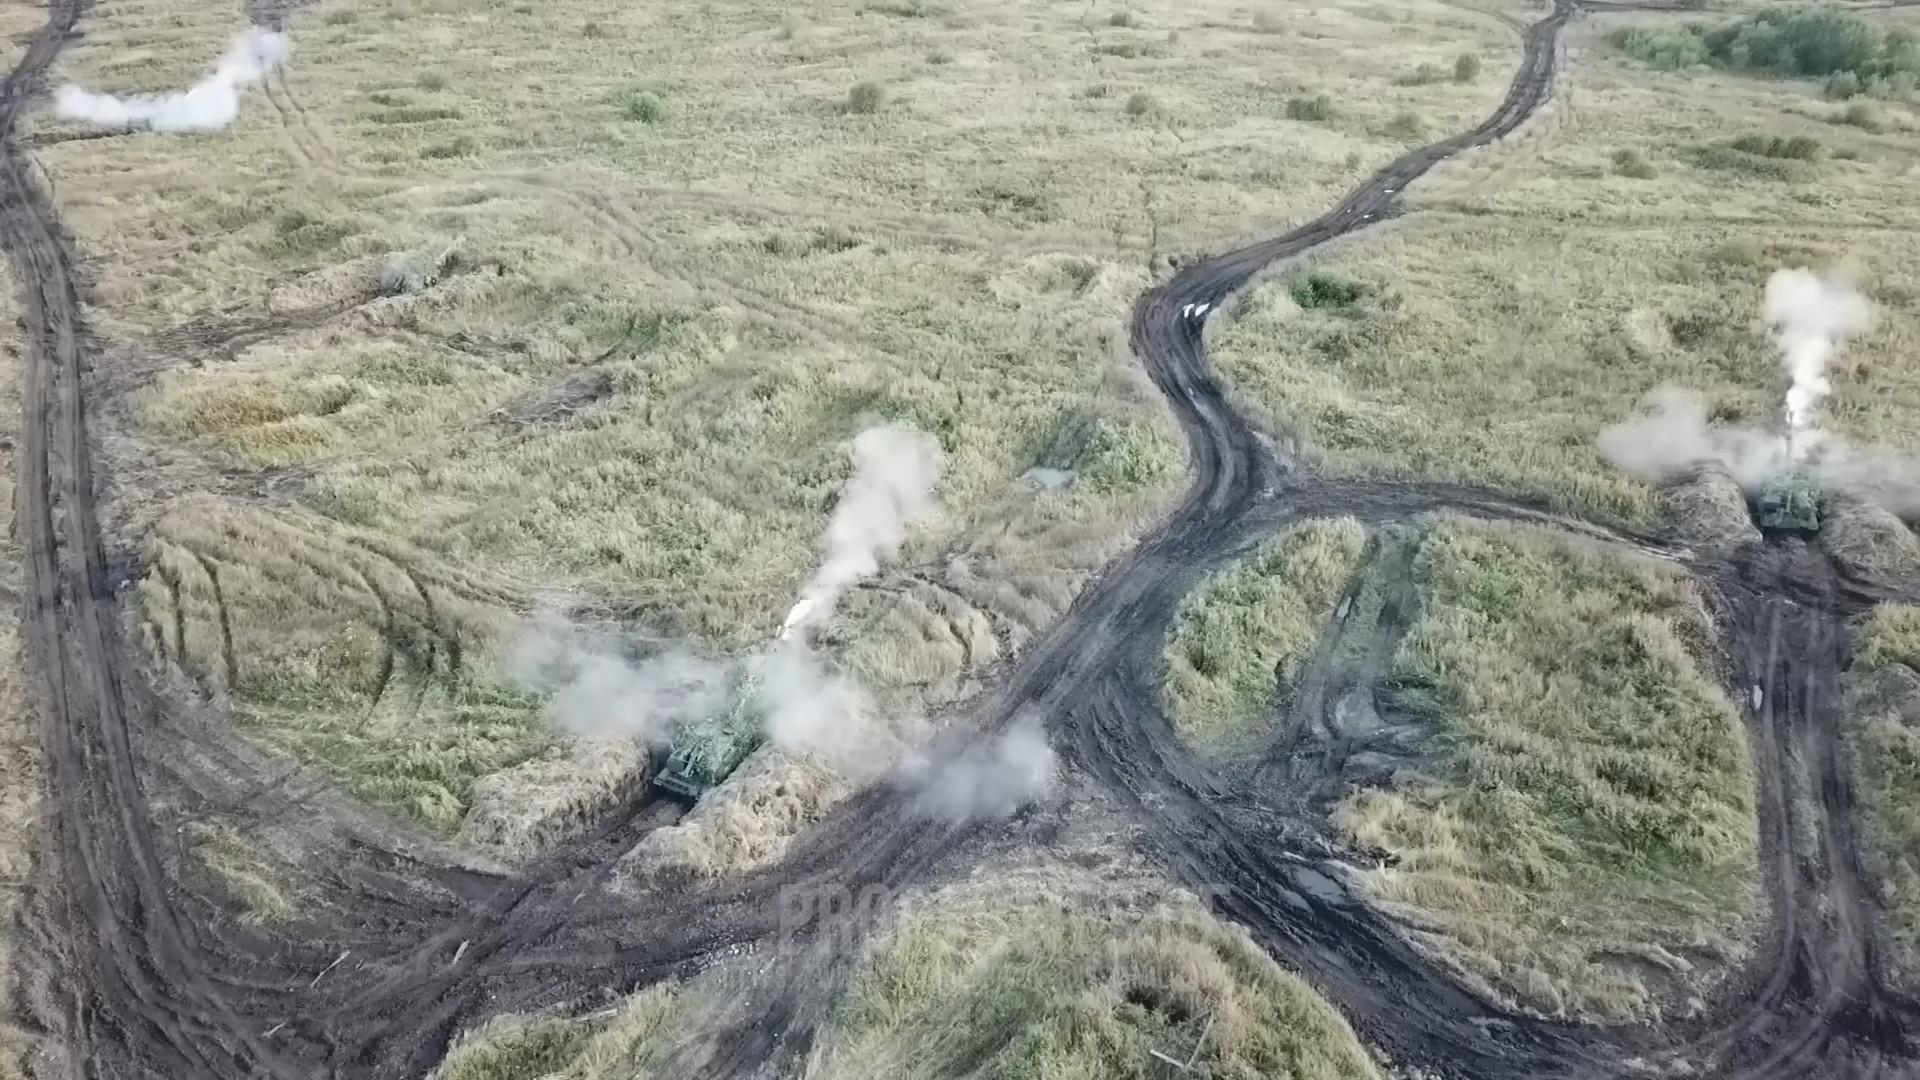tank: (654, 695, 758, 802), (1756, 472, 1820, 530)
